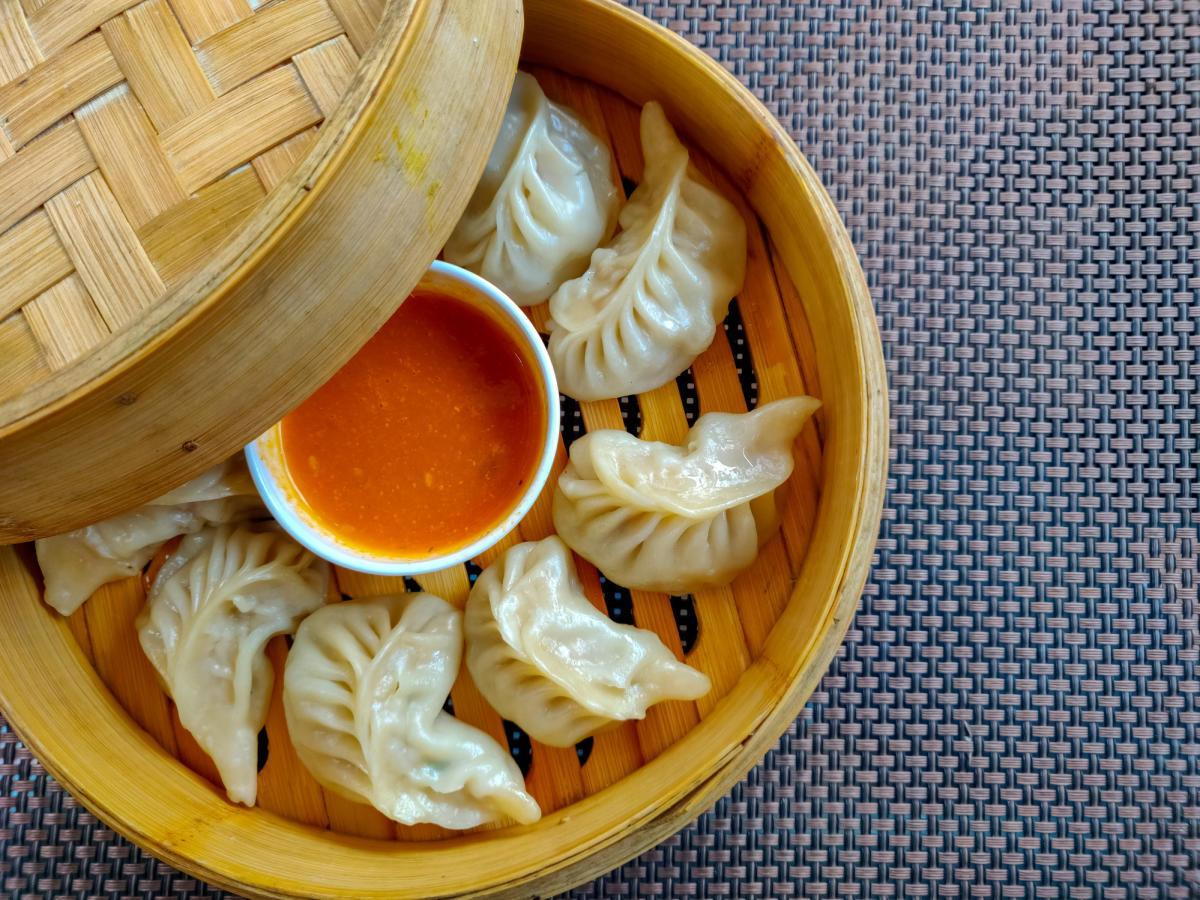momos: (284, 593, 541, 830), (548, 101, 745, 401), (136, 523, 328, 803), (553, 398, 820, 594), (464, 537, 710, 746), (462, 73, 621, 305)
